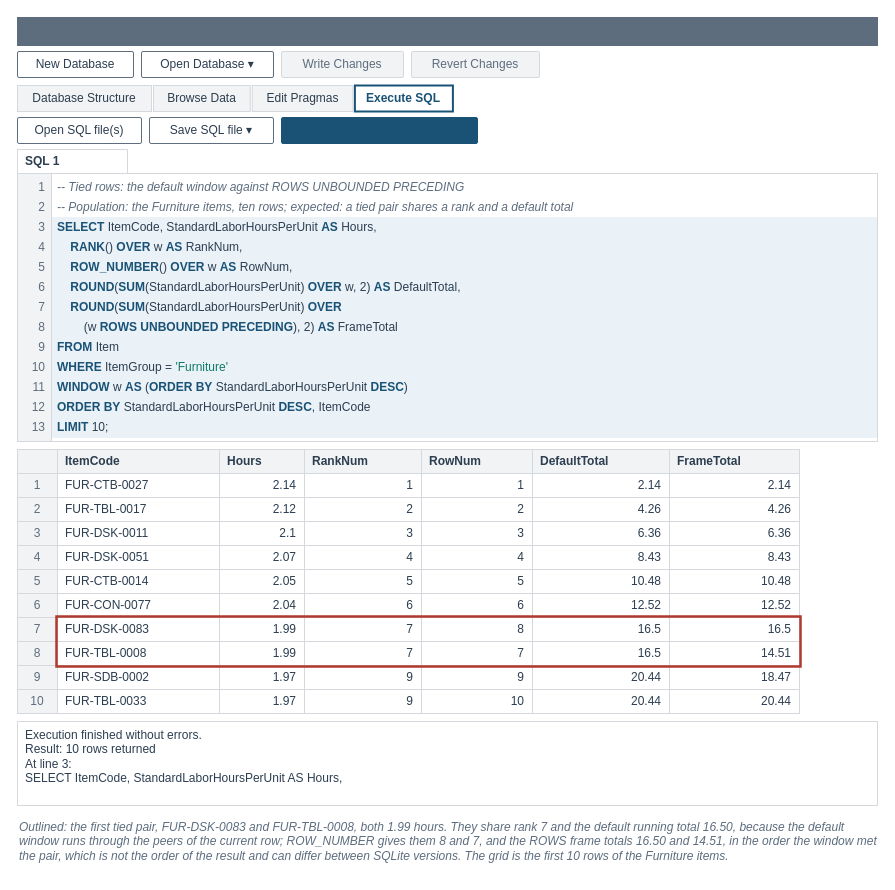
Image size: 895x890. Some labels were removed from this diagram. Here are the shapes that lost their labels. From the top down, the centre of each, then its label:
(x=447, y=31): DB Browser for SQLite - C:\Users\you\Documents\CharlesRiver_Work.sqlite
(x=379, y=130): ▶ Execute all/selected SQL
